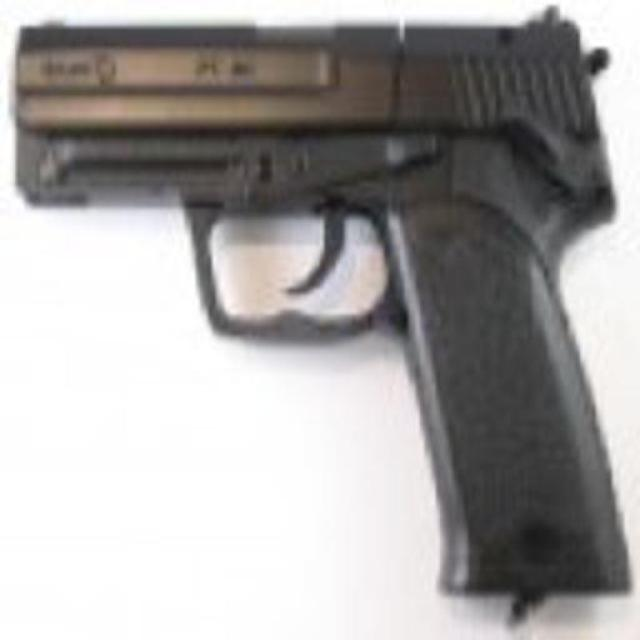pistol: (15, 15, 631, 596)
